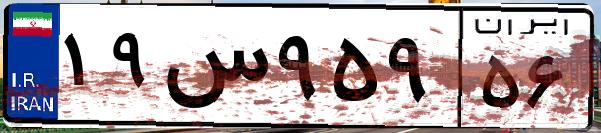1: (57, 26, 110, 100)
5: (330, 28, 385, 110), (475, 38, 525, 113)
6: (525, 38, 570, 115)
9: (270, 28, 330, 110), (385, 28, 445, 110), (110, 28, 158, 98)
س: (158, 20, 270, 120)
